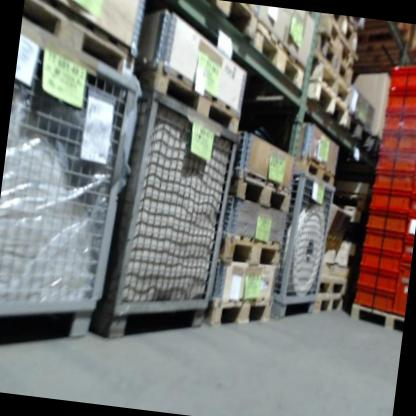pallet: (17, 0, 147, 79), (130, 58, 246, 138), (244, 16, 308, 95), (223, 164, 295, 215), (178, 0, 257, 40), (201, 289, 273, 332), (213, 225, 283, 269), (358, 19, 412, 64), (304, 80, 352, 129), (338, 109, 382, 162), (344, 300, 405, 338), (310, 60, 354, 105), (314, 40, 357, 84), (318, 22, 360, 66), (290, 154, 336, 188), (307, 289, 349, 317), (308, 271, 352, 296), (407, 38, 416, 72)
small_load_carrier: (369, 191, 411, 218), (374, 149, 416, 175), (357, 268, 399, 294), (362, 229, 403, 253), (360, 248, 401, 272), (377, 129, 416, 154), (364, 213, 408, 235), (352, 289, 396, 311), (373, 171, 414, 194), (395, 259, 410, 316), (385, 87, 416, 114), (388, 62, 416, 90), (383, 111, 416, 133), (401, 239, 413, 263), (407, 215, 416, 240), (410, 177, 416, 197), (410, 197, 416, 216), (413, 155, 416, 179)
stillage: (0, 23, 154, 362), (85, 79, 251, 361), (266, 167, 342, 326)
